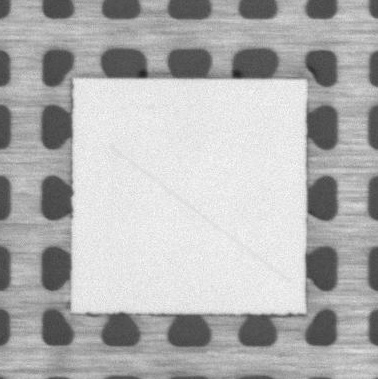DIE_CRACK: (111, 147, 289, 282)
